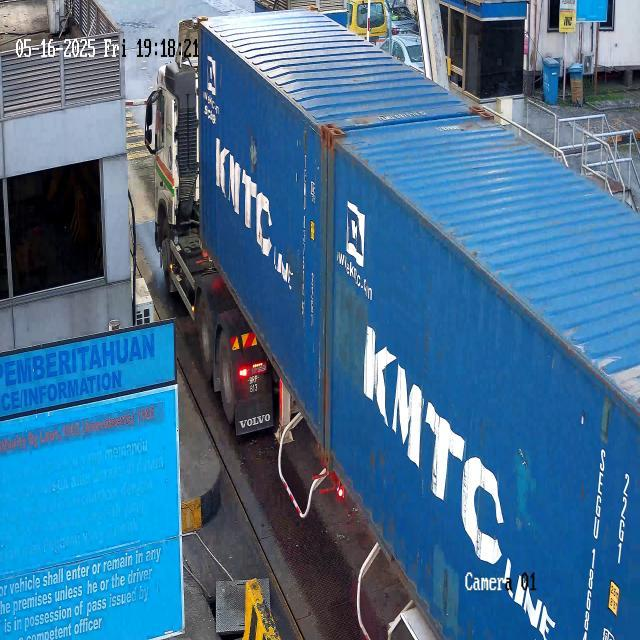ISO: (612, 466, 632, 568)
container_number: (567, 442, 613, 640), (286, 150, 312, 339)
